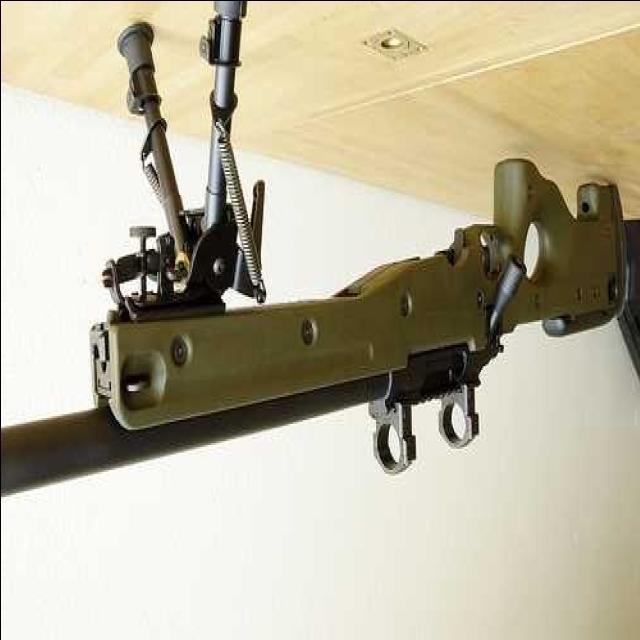heavyweapon: (7, 151, 640, 536)
